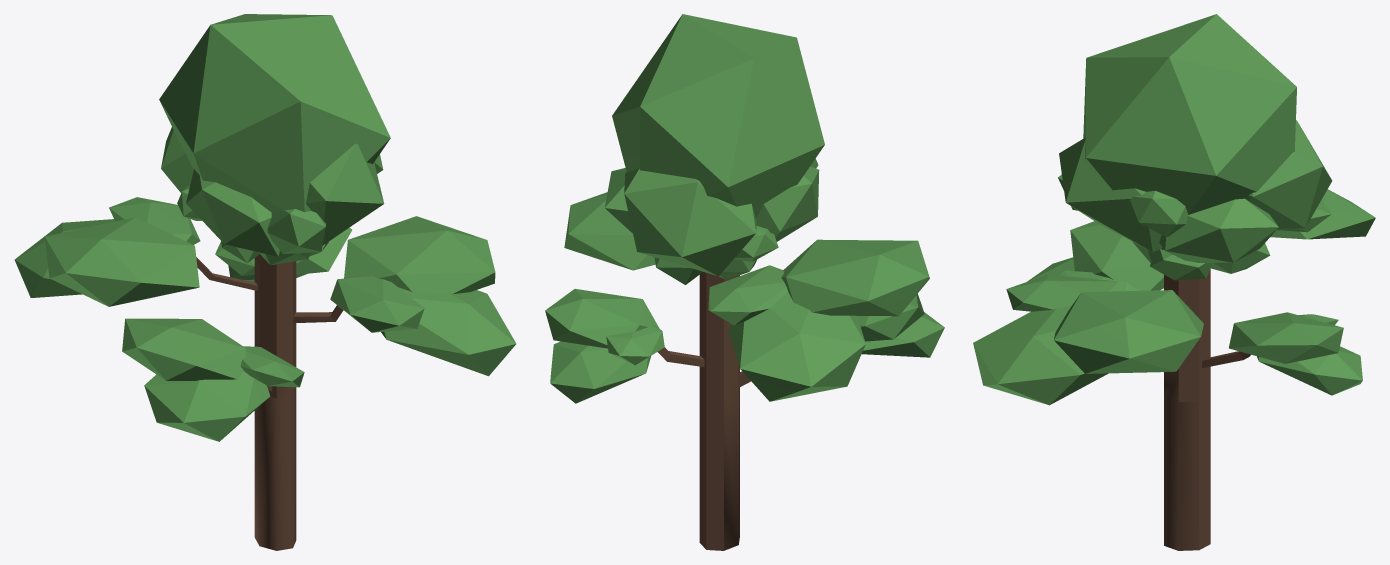
File: Tilleuil_01.fbx
The picture shows the model from 3 angles, left to right: view 1: azimuth 30°, elevation 25°; view 2: azimuth 150°, elevation 25°; view 3: azimuth 270°, elevation 25°; orthographic projection. The views are drawn at different scales.
Visible parts, largest first — view 1: Tilleuil_01; view 2: Tilleuil_01; view 3: Tilleuil_01.
Part boxes in pixels (left/top/right/bottom): Tilleuil_01: left=14, top=14, right=516, bottom=550; Tilleuil_01: left=545, top=14, right=944, bottom=550; Tilleuil_01: left=973, top=14, right=1375, bottom=550.
Size of the model in its own units: 386 by 487 by 350.
Materials: 1 (1 with a texture image).
